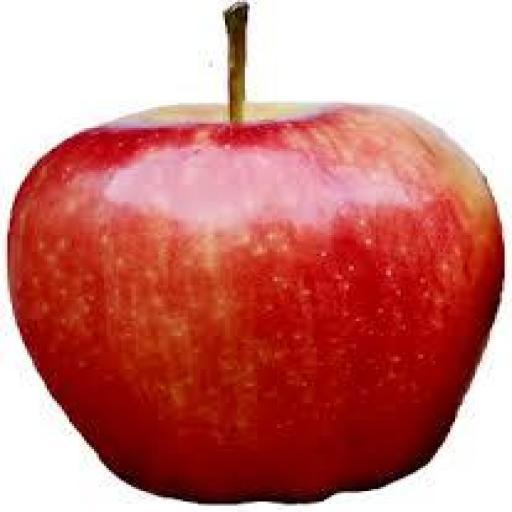apple: (10, 105, 502, 501)
